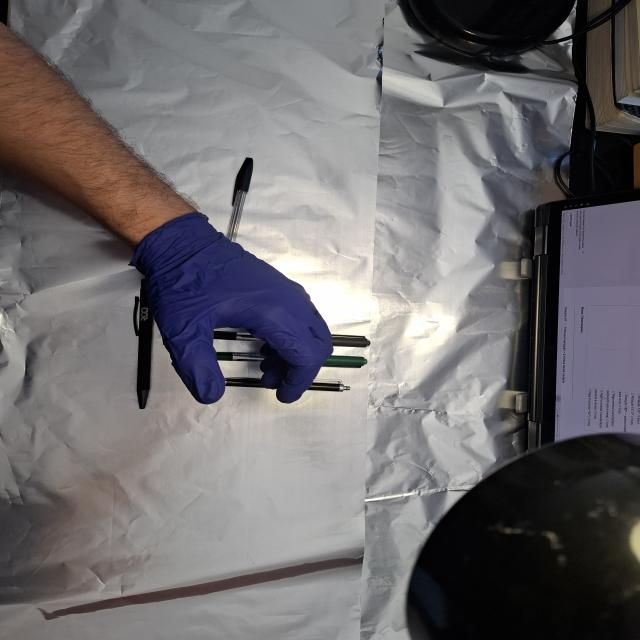glove_on: (130, 213, 337, 407)
